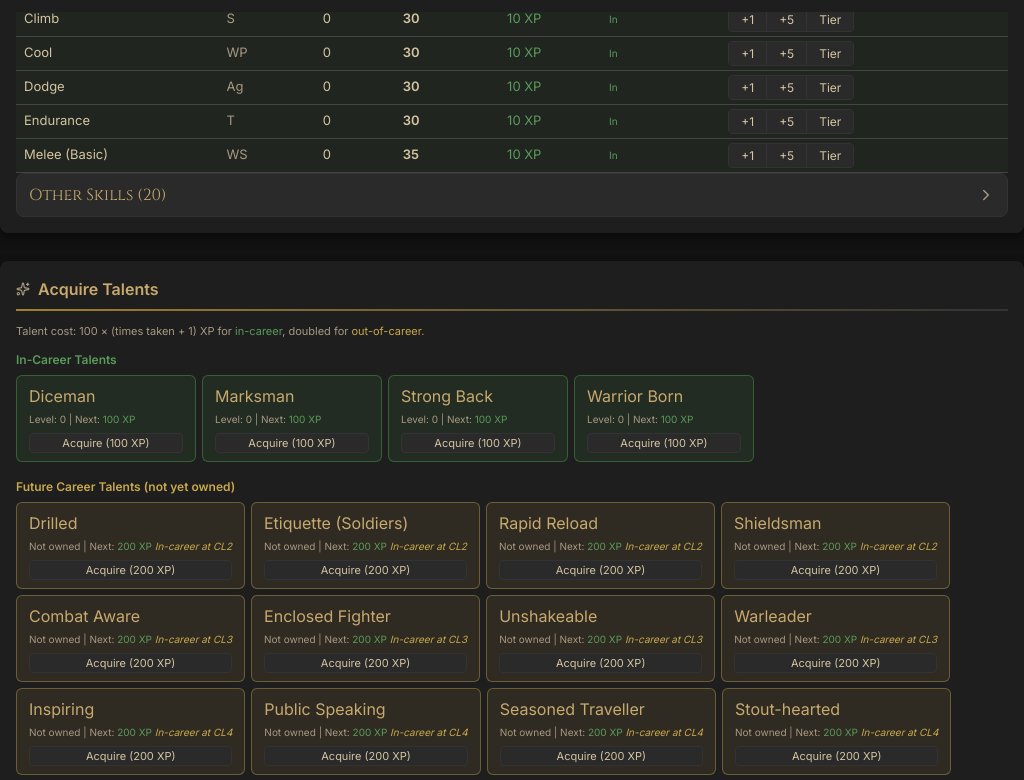
Test: AdvancementPage tooltip behavior › clicking a different talent switches the tooltip (Req 1.4)
Click the button "Marksman": x=292, y=396 [215, 384, 369, 408]
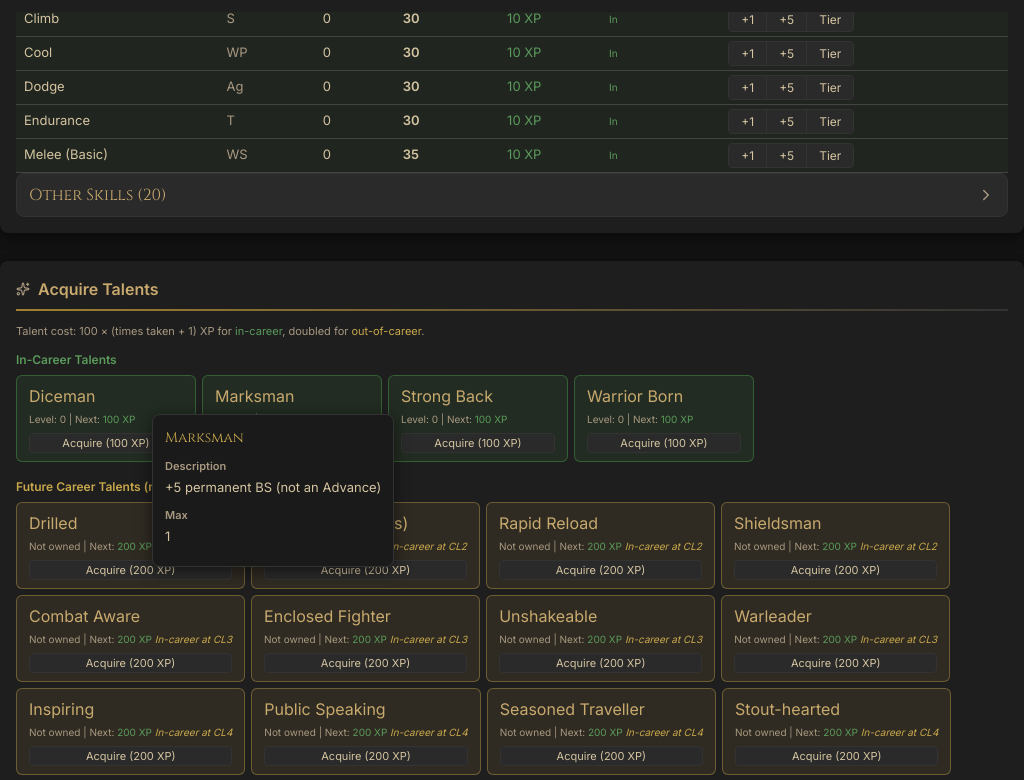
Expected: the tooltip shows "Marksman", [165, 428, 244, 447]
Click the button "Warrior Born": x=664, y=396 [587, 384, 741, 408]
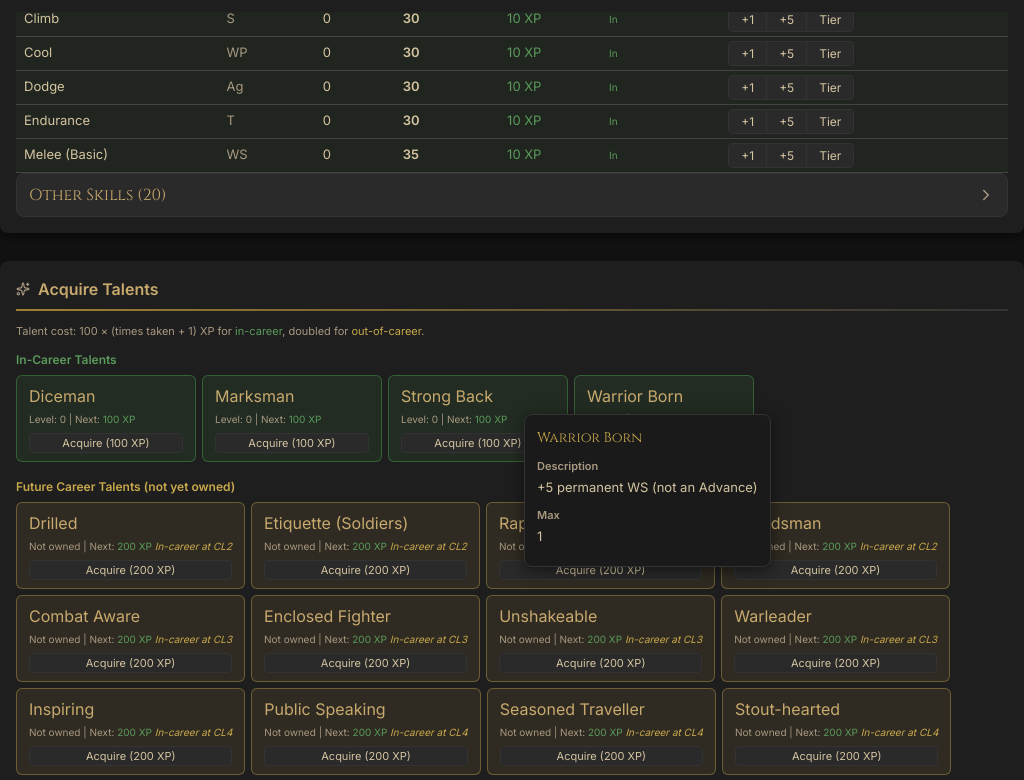
Expected: the tooltip shows "Warrior Born", [537, 428, 642, 447]
Expected: the tooltip shows "+5 permanent WS (not an Advance)", [537, 478, 758, 494]
Expected: the number of tooltips is 1, [524, 414, 770, 567]
